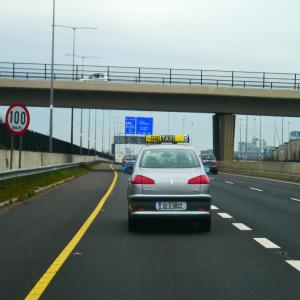Vehicle-registration-plate: (156, 202, 189, 213)
